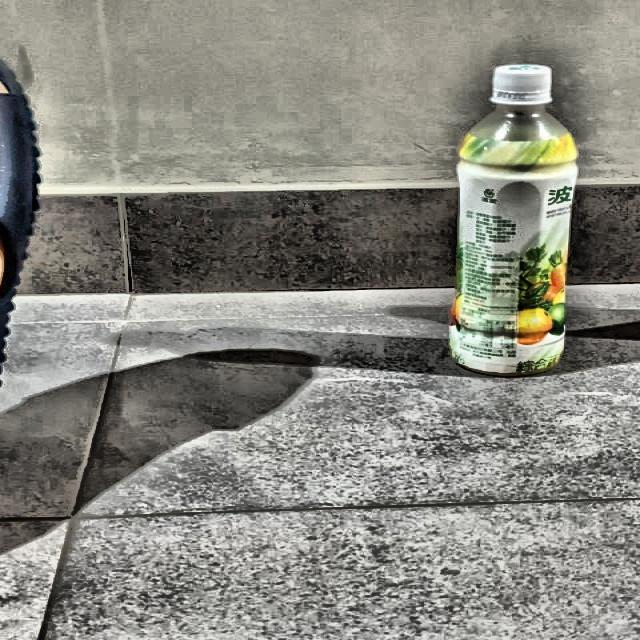plastic: (434, 45, 588, 386)
